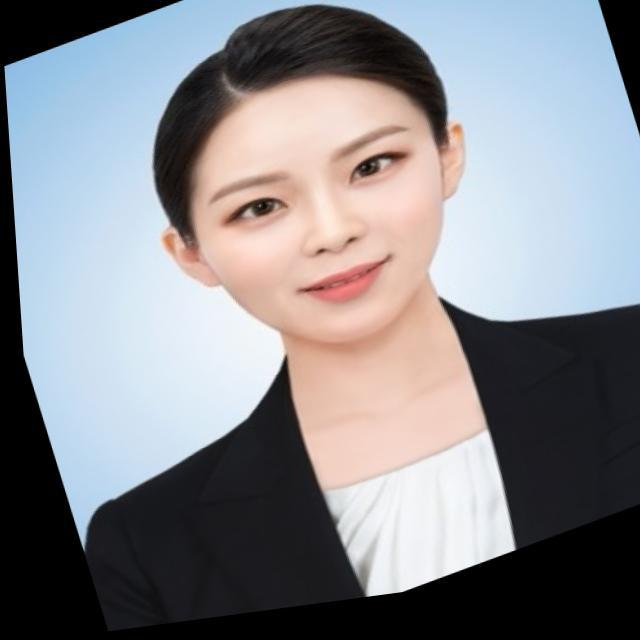Nonhelmet: (147, 2, 471, 348)
